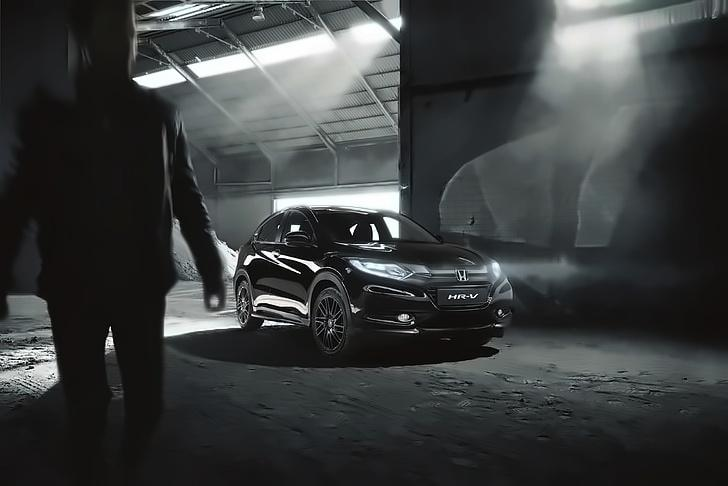Car hood: (318, 241, 504, 273)
Driver-s door - -F-R-: (283, 204, 319, 318)
Fender - -F-R-: (307, 236, 353, 334)
Fender - -R-R-: (227, 237, 258, 324)
Front bumper: (342, 285, 516, 341)
Headlight - -L-: (481, 262, 508, 285)
Headlight - -R-: (337, 255, 434, 288)
Passenger-s door - -R-R-: (252, 203, 283, 313)
Side bumper - -R-: (249, 310, 310, 333)
Side mirror - -R-: (286, 232, 313, 246)
